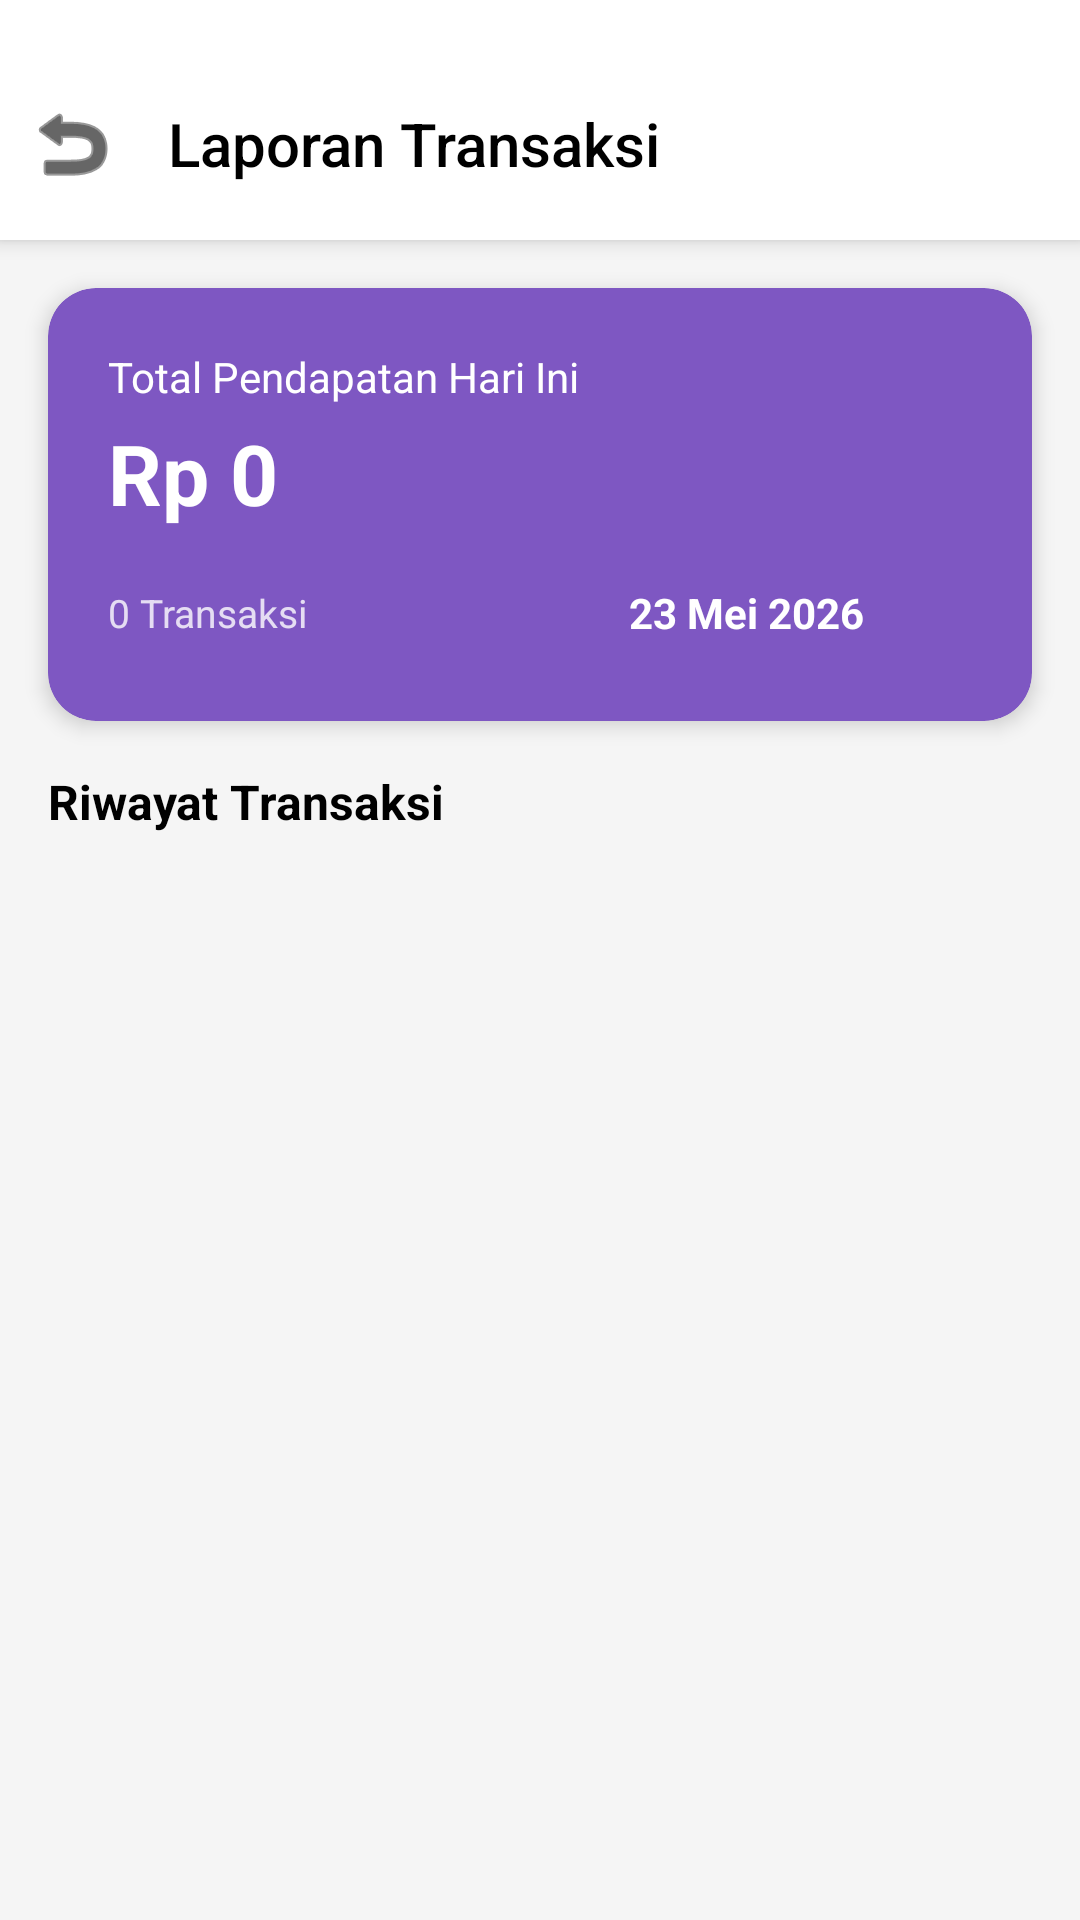

Where to tap for icons on this 1080×1920 app screen, as (x=x, y=y):
revert: (x=73, y=144)
